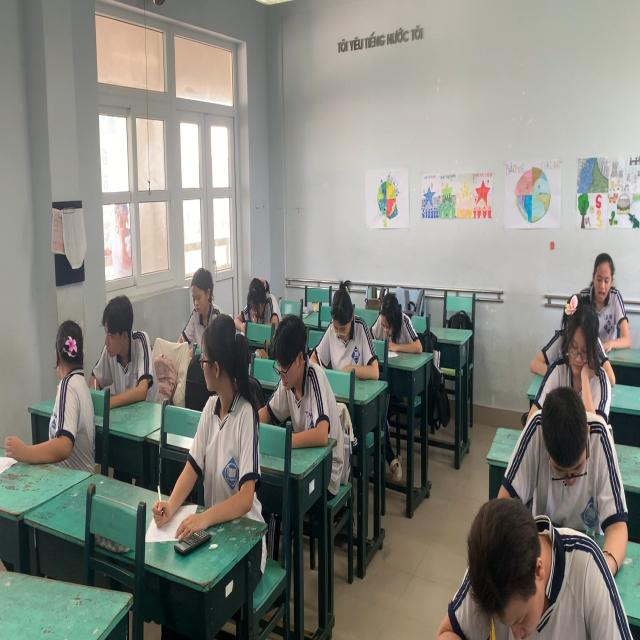cheating: (189, 312, 255, 533), (34, 314, 98, 475)
not_cheating: (461, 480, 600, 631), (264, 310, 340, 451), (531, 377, 606, 515), (93, 288, 154, 416), (320, 271, 374, 388), (558, 313, 600, 402), (588, 243, 624, 343), (376, 270, 415, 360), (182, 268, 226, 338), (234, 259, 277, 329)
